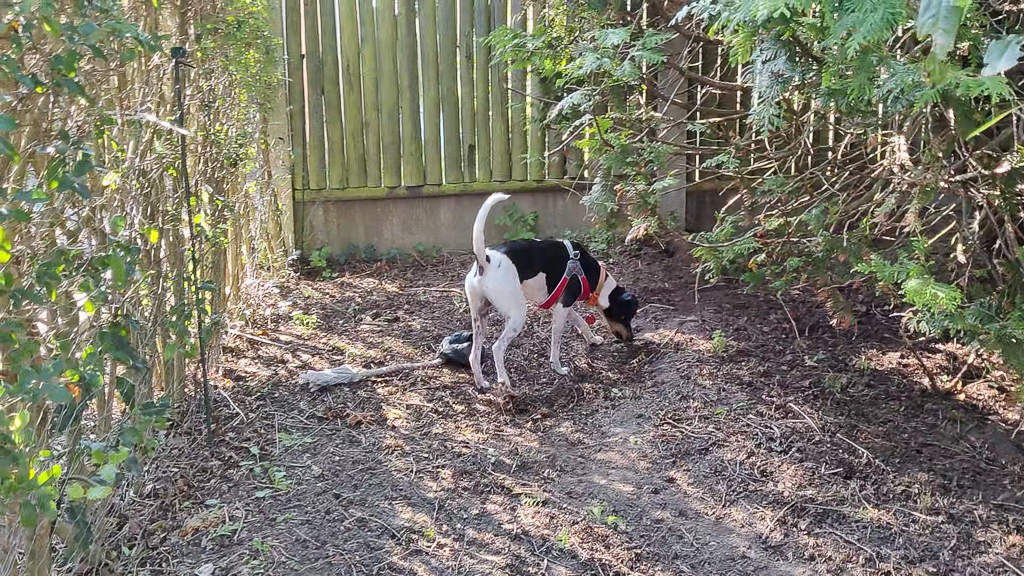Dog: (448, 170, 650, 411)
